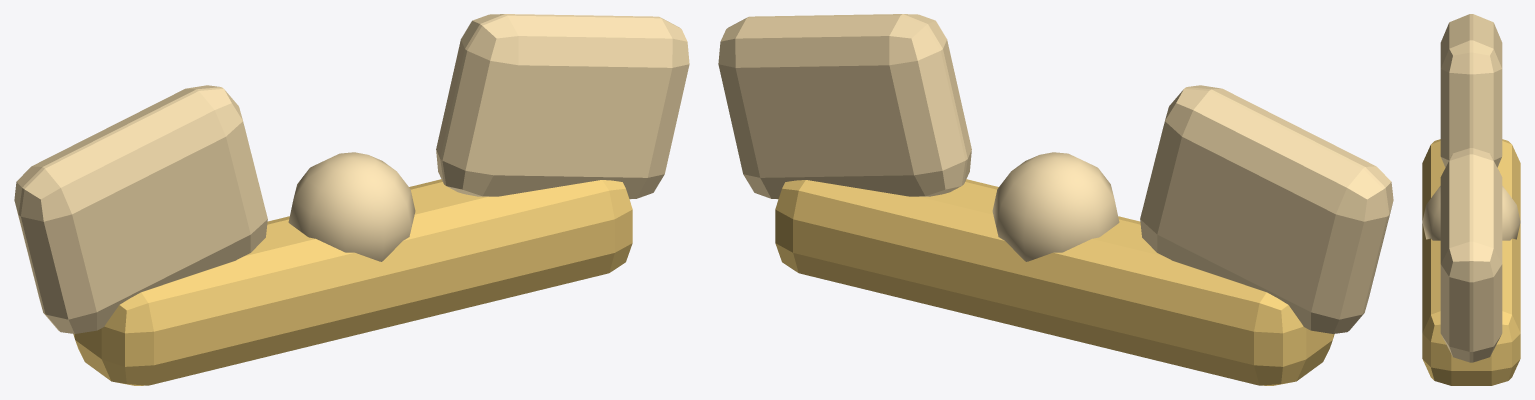
Rendered from VM-DAM-SH38807272.glb.
3 views of the same model, side by side, from view 1: azimuth 30°, elevation 25°; view 2: azimuth 150°, elevation 25°; view 3: azimuth 270°, elevation 25° (orthographic). The views are drawn at different scales.
Parts seen in each view (by area): view 1: Pinzas de Cabello Plásticas Planas; view 2: Pinzas de Cabello Plásticas Planas; view 3: Pinzas de Cabello Plásticas Planas.
Boxes of the visible parts, box(x1,y1,x2,y2) form: Pinzas de Cabello Plásticas Planas: box(14, 14, 689, 385); Pinzas de Cabello Plásticas Planas: box(718, 14, 1393, 385); Pinzas de Cabello Plásticas Planas: box(1422, 14, 1520, 385).
Bounding box in the file's own units: 0.1002 × 0.0386 × 0.017.
